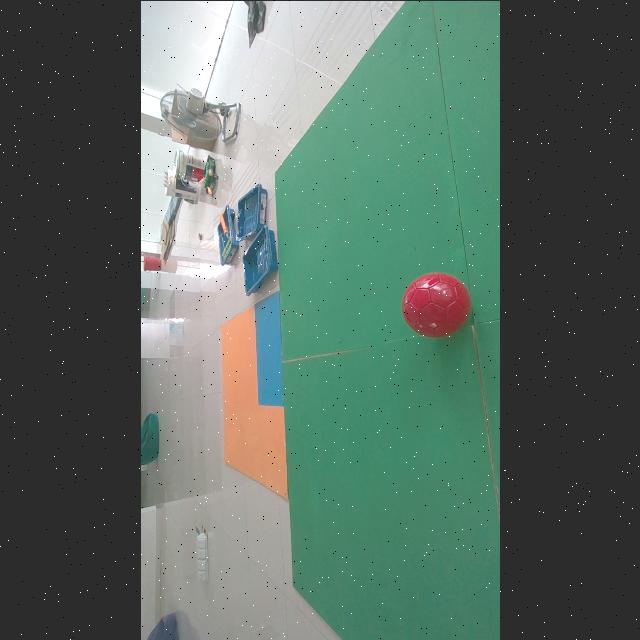R: (401, 272, 470, 337)
